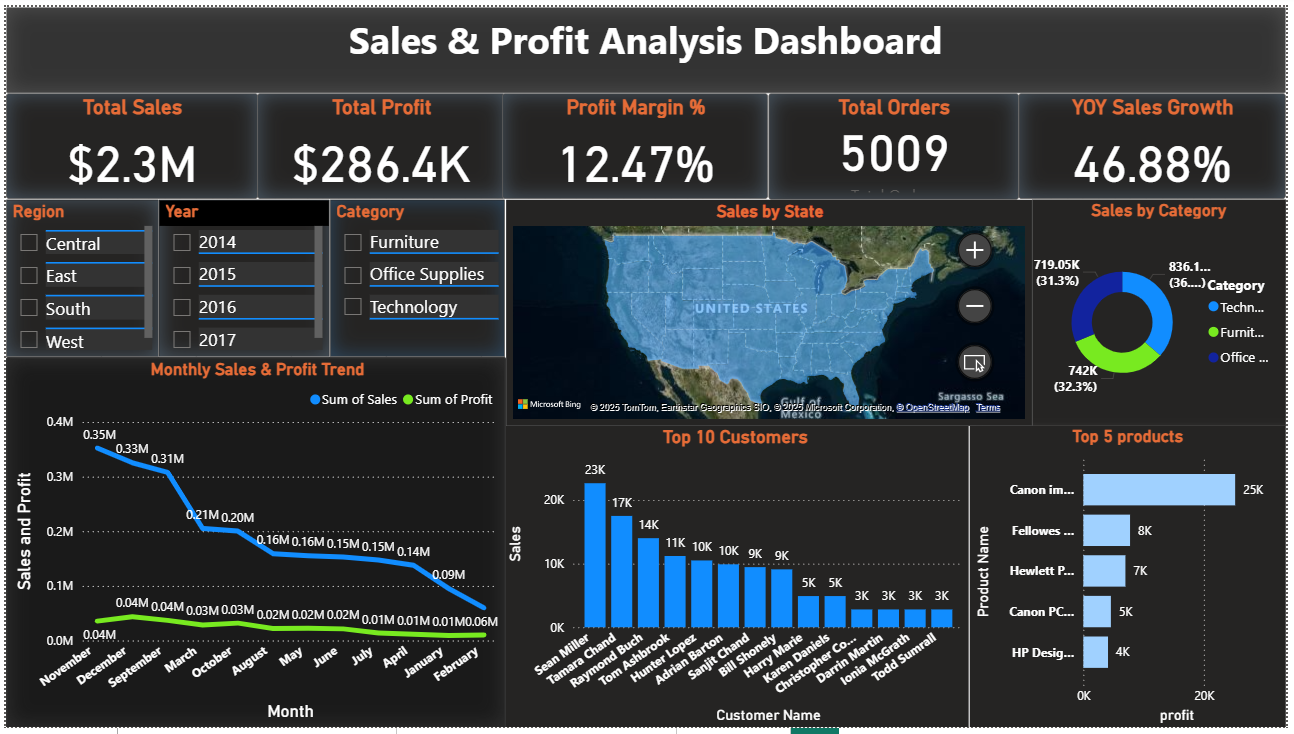

This screenshot's page, from the dashboard's own definition file:
{"tool":"powerbi","page":{"name":"Sales & Profit Analysis Dashboard","canvas":[1280,720],"ordinal":0},"visuals":[{"type":"card","title":"Total Sales","fields":{"Values":["Superstore.Total Sales"]},"box":[0,86.3,251.8,105.7],"z":0},{"type":"donutChart","title":"Sales by Category","fields":{"Category":["Superstore.Category"],"Y":["Superstore.Sales"]},"box":[1026.8,192,253.2,226.8],"z":1000},{"type":"card","title":"Total  Profit","fields":{"Values":["Superstore.Total Profit"]},"box":[251.8,86.3,247.7,105.7],"z":2000},{"type":"card","title":"Profit Margin %","fields":{"Values":["Superstore.Profit Margin %"]},"box":[496.7,86.3,265.7,105.7],"z":3000},{"type":"card","title":"Total Orders","fields":{"Values":["Superstore.Total Orders"]},"box":[762.5,86.2,250,106.2],"z":4000},{"type":"card","title":"YOY Sales Growth","fields":{"Values":["Superstore.YoY Sales Growth"]},"box":[1012.9,86.3,267.1,105.7],"z":5000},{"type":"textbox","box":[0,0,1280,86.3],"z":6000},{"type":"barChart","title":"Top 5 products","fields":{"Category":["Superstore.Product Name"],"Y":["Superstore.Profit"]},"box":[963.8,418.8,316.2,302.5],"z":7000},{"type":"clusteredColumnChart","title":"Top 10 Customers","fields":{"Category":["Superstore.Customer Name"],"Y":["Superstore.Sales"]},"box":[496.2,418.8,466.2,302.5],"z":8000},{"type":"lineChart","title":"Monthly Sales & Profit Trend","fields":{"Category":["Superstore.Month Name"],"Y":["Superstore.Sales","Superstore.Profit"]},"box":[0,350,500,371.2],"z":9000},{"type":"slicer","title":"Region","fields":{"Values":["Superstore.Region"]},"box":[0,192,153,157.2],"z":10000},{"type":"slicer","title":"Year","fields":{"Values":["Superstore.Order Year"]},"box":[153,192,171.1,157.2],"z":11000},{"type":"slicer","title":"Category","fields":{"Values":["Superstore.Category"]},"box":[324.2,192,175.3,157.2],"z":12000},{"type":"filledMap","title":" Sales by State","fields":{"Category":["Superstore.State"]},"box":[500,192.5,526.2,226.2],"z":13000}]}

Visuals, with their boxes in screenshot pixels (x1, y1, x2, y2), scaled from the page's 1280x720 canvas onto the 1294x734 screenshot:
"Total Sales" card: 0:88:255:196
"Sales by Category" donutChart: 1038:196:1293:427
"Total  Profit" card: 255:88:505:196
"Profit Margin %" card: 502:88:771:196
"Total Orders" card: 771:88:1024:196
"YOY Sales Growth" card: 1024:88:1293:196
textbox: 0:0:1293:88
"Top 5 products" barChart: 974:427:1293:733
"Top 10 Customers" clusteredColumnChart: 502:427:973:733
"Monthly Sales & Profit Trend" lineChart: 0:357:505:733
"Region" slicer: 0:196:155:356
"Year" slicer: 155:196:328:356
"Category" slicer: 328:196:505:356
" Sales by State" filledMap: 505:196:1037:427
